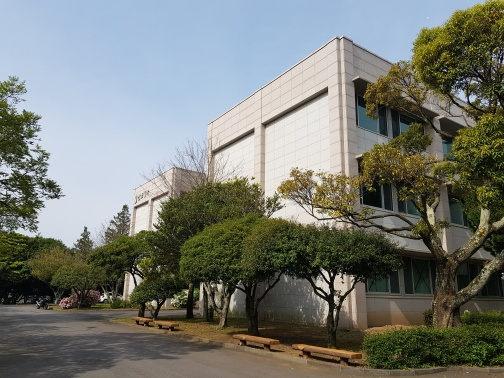College of Nursing: (204, 43, 472, 318), (113, 150, 180, 309)
